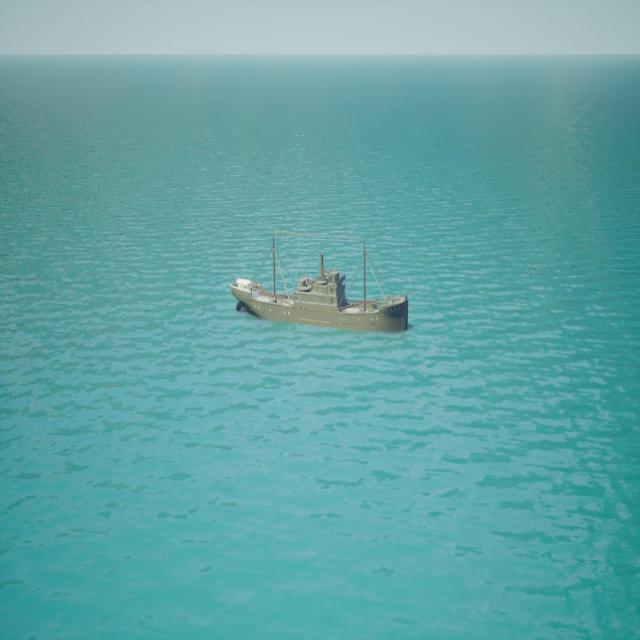fishing ship: (230, 234, 410, 335)
